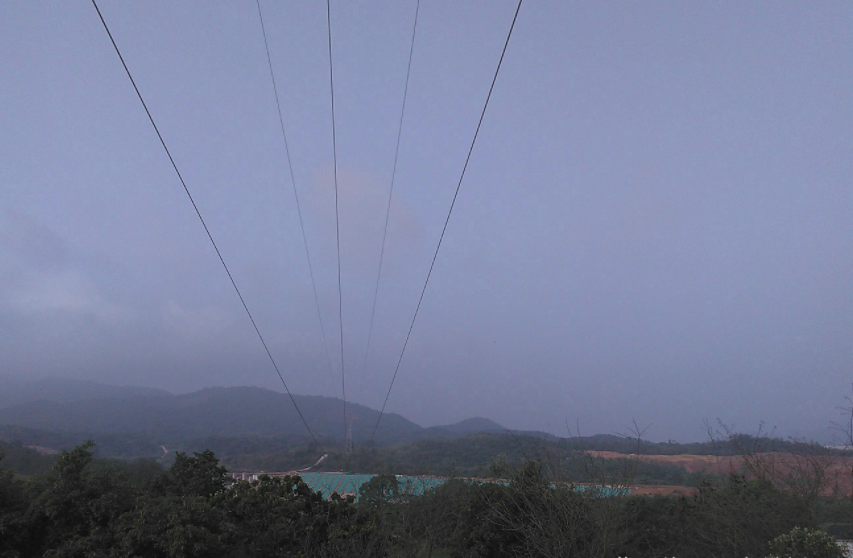绿膜: (290, 471, 447, 504), (575, 484, 631, 499), (463, 478, 509, 486), (547, 483, 556, 489)
